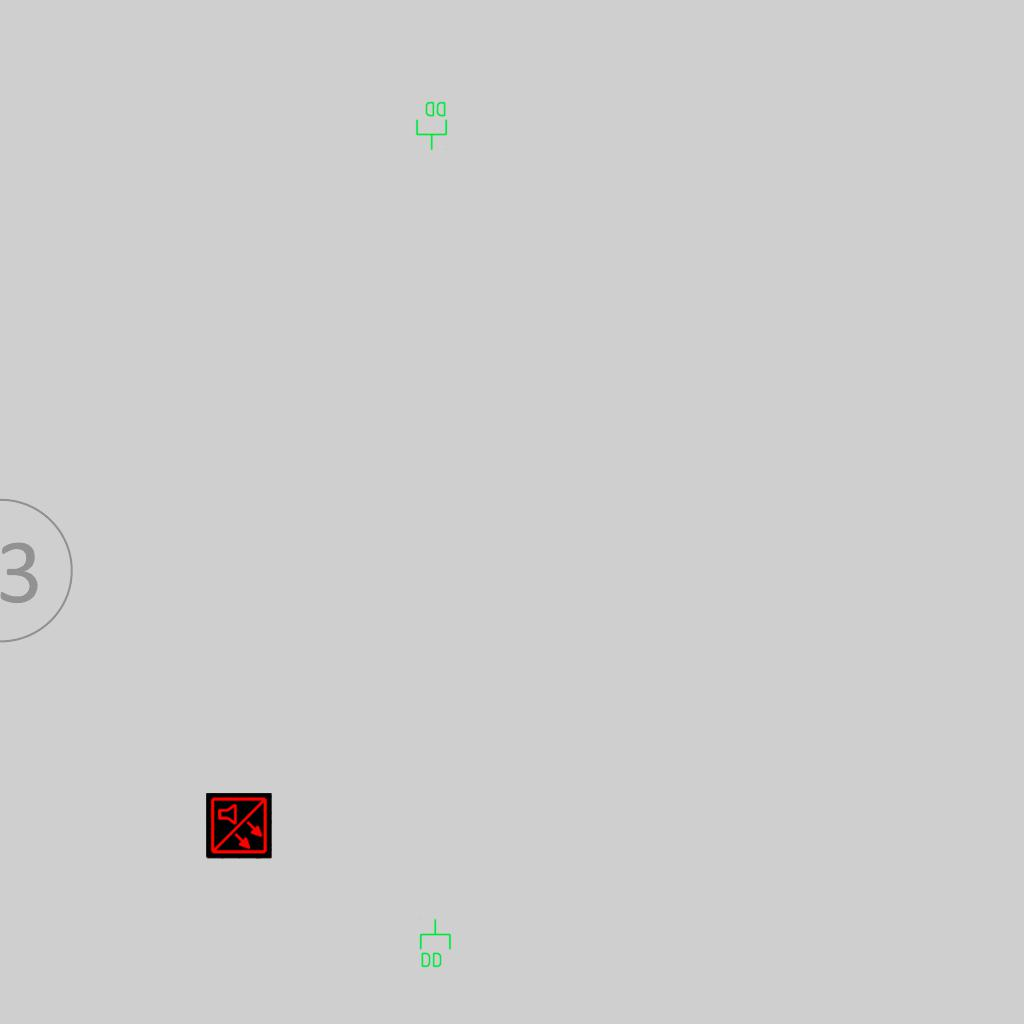Datenanschluss_zweifach: (415, 100, 449, 151), (418, 918, 452, 969)
OKW_Multisensormelder_(Kombination_optischer_Rauch-Kahlenmonoxid_Waerme-Melder): (206, 793, 272, 859)
